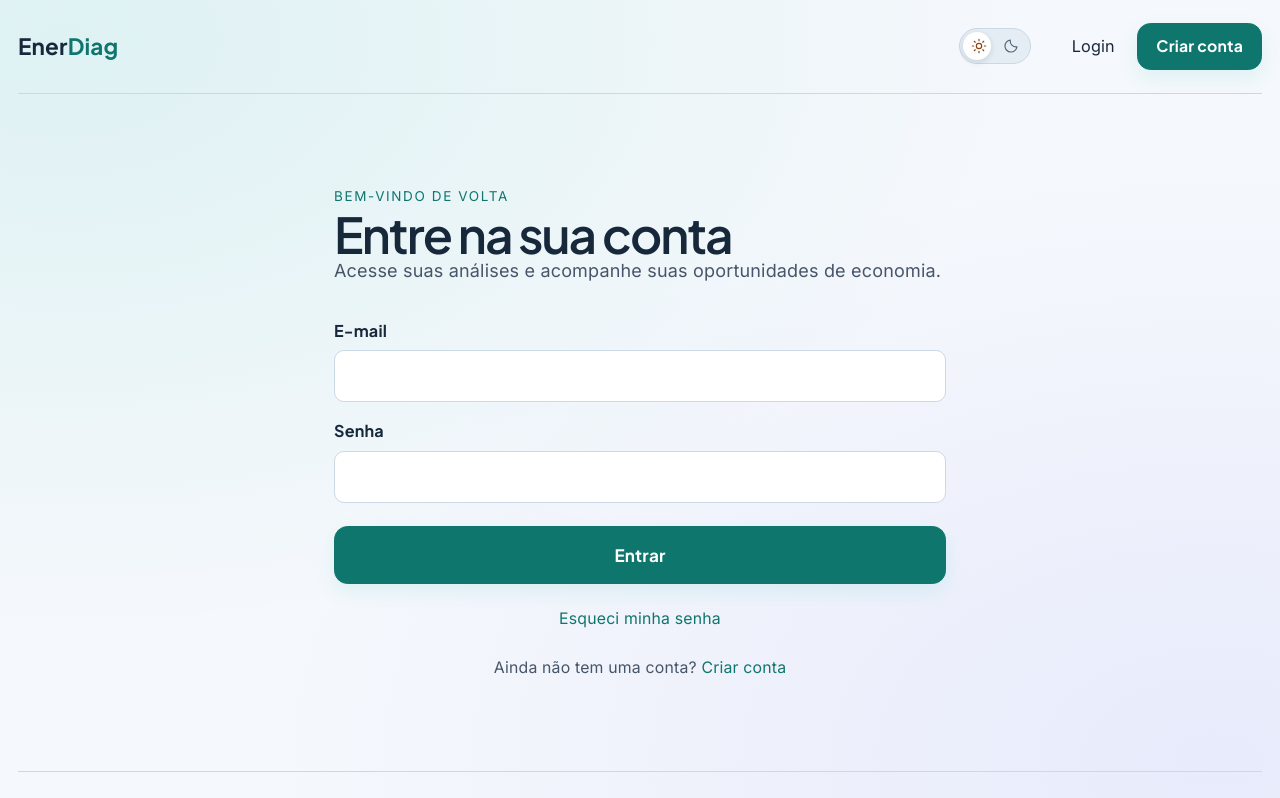
Scenario: login and password recovery › routes an admin login to the protected administrative dashboard
Type "admin@example.com" into the field labelled "E-mail".
click(640, 376); type("admin@example.com")  # box [334,350,946,402]
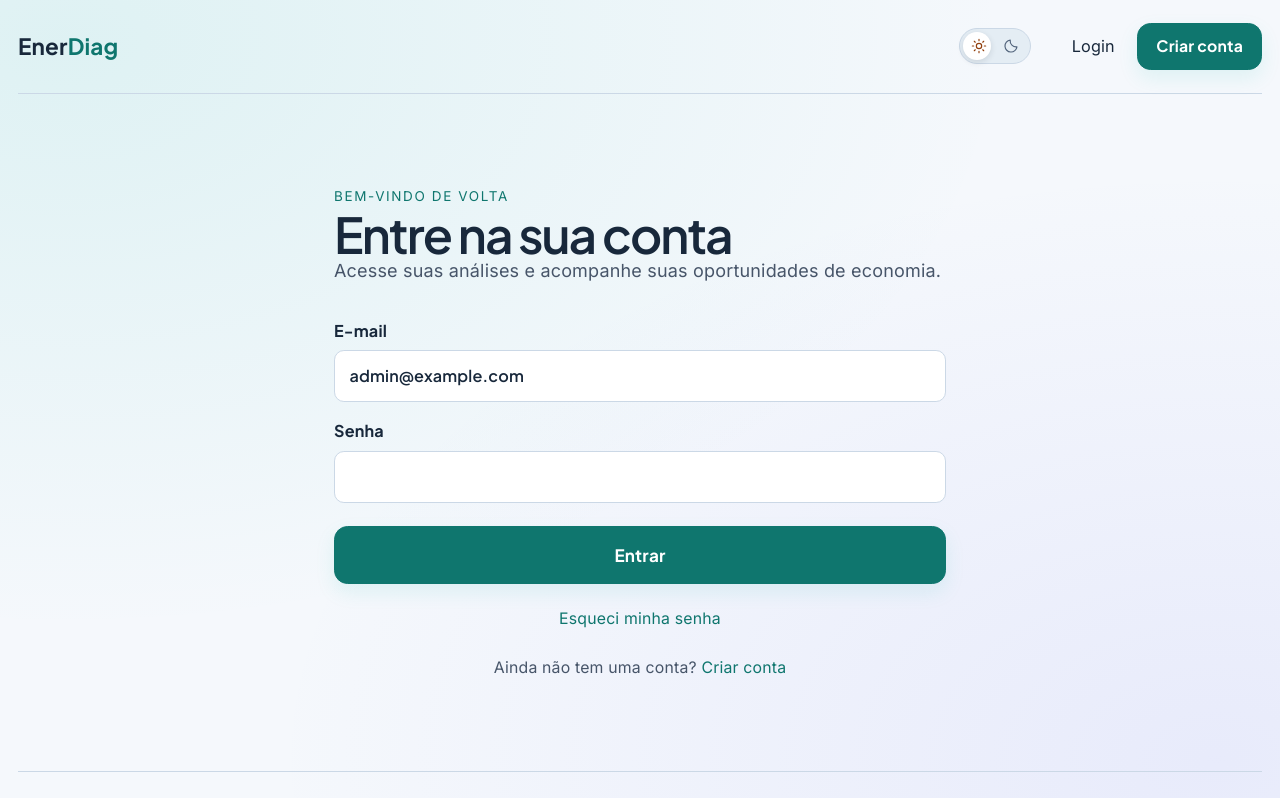
Type "SenhaValida123" into the password field labelled "Senha".
click(640, 477); type("SenhaValida123")  # box [334,451,946,503]
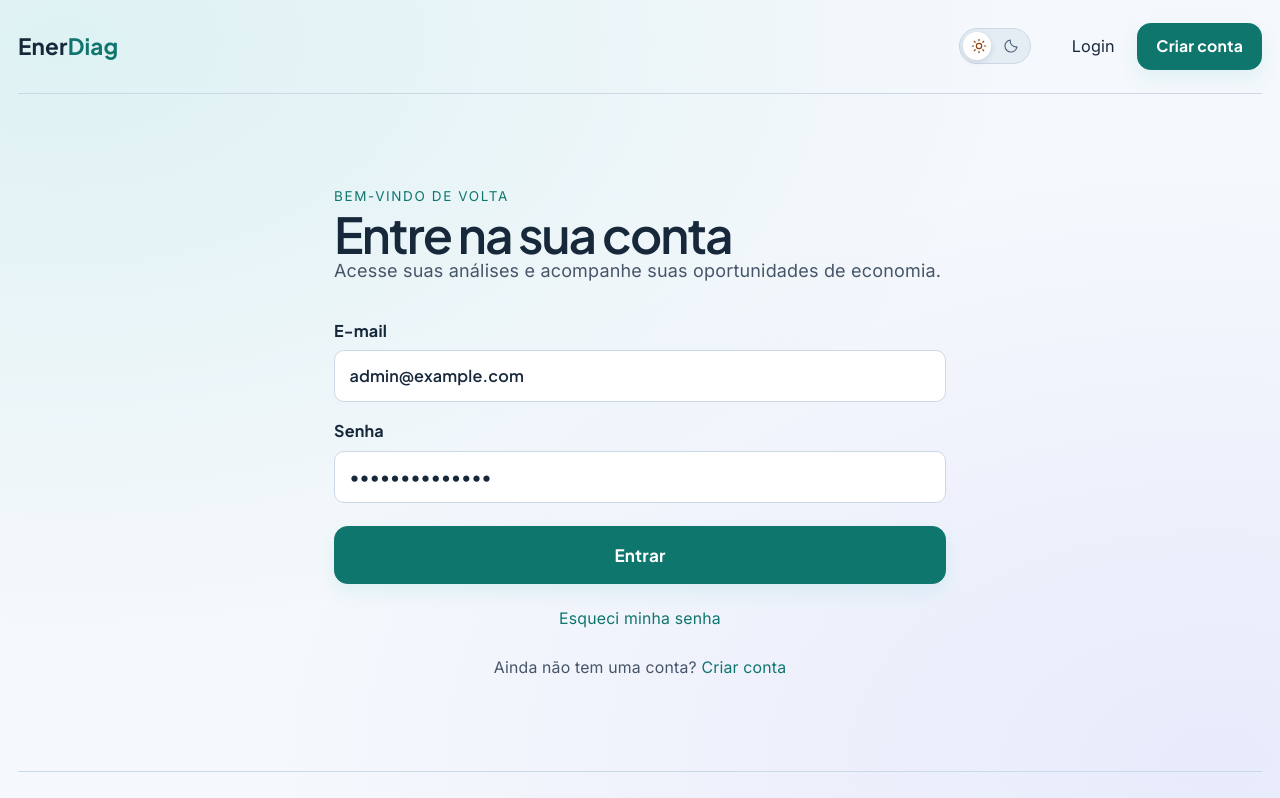
Click the button "Entrar".
click(640, 555)  # box [334,526,946,584]
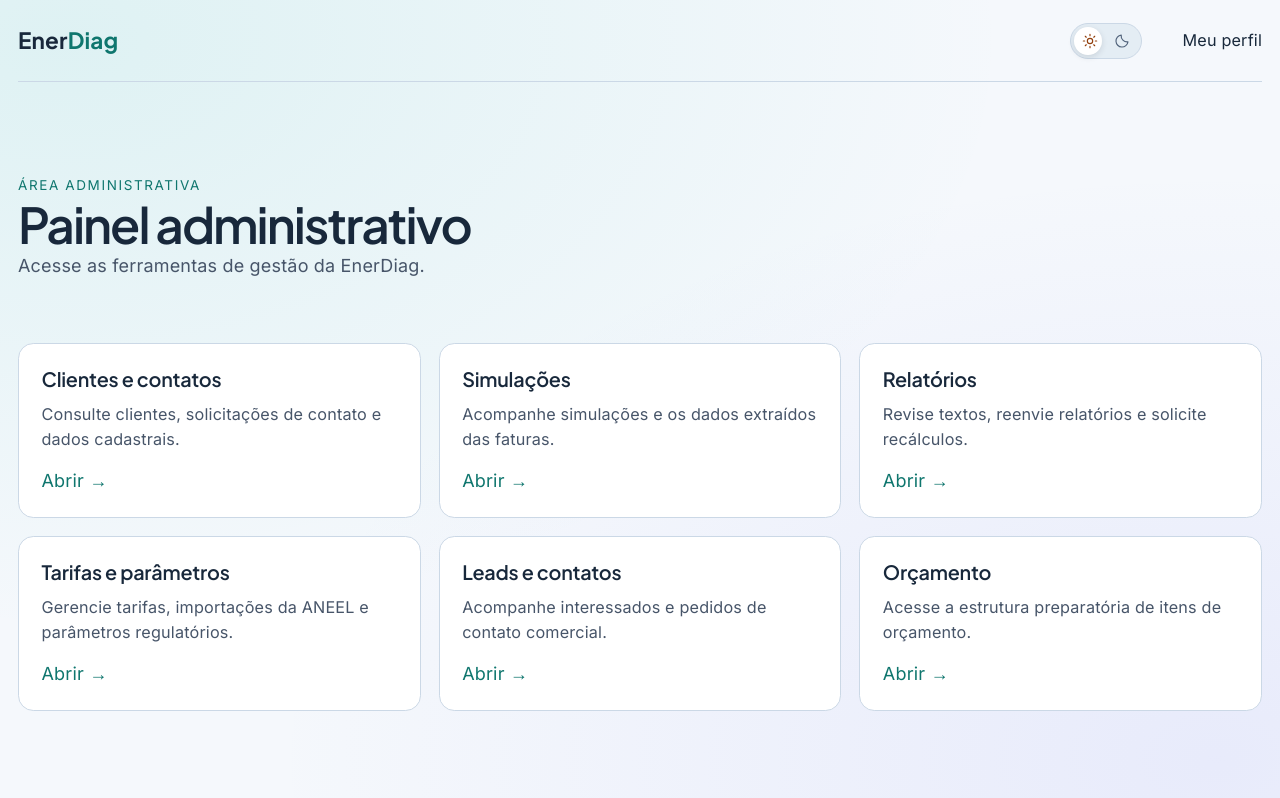
Now the heading "Painel administrativo" is shown, box [18,193,471,255]
